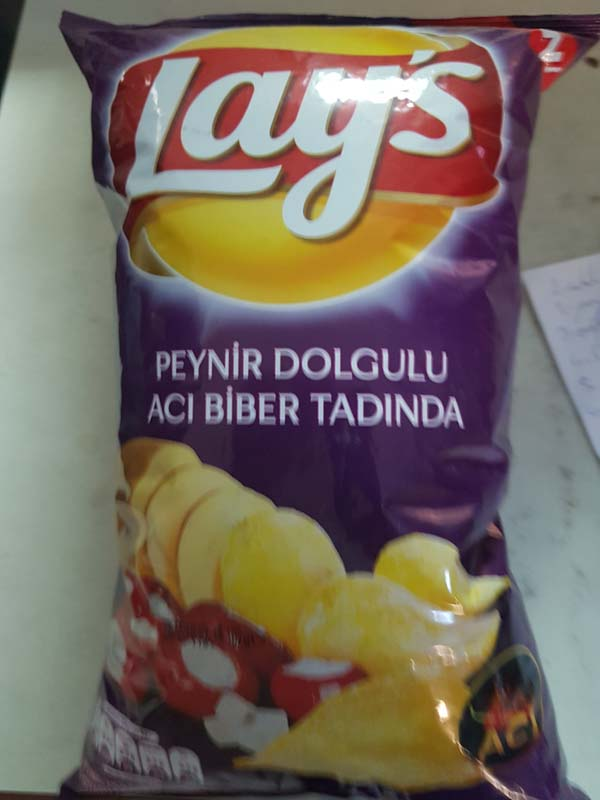layspeynirsoslu: (51, 7, 599, 800)
